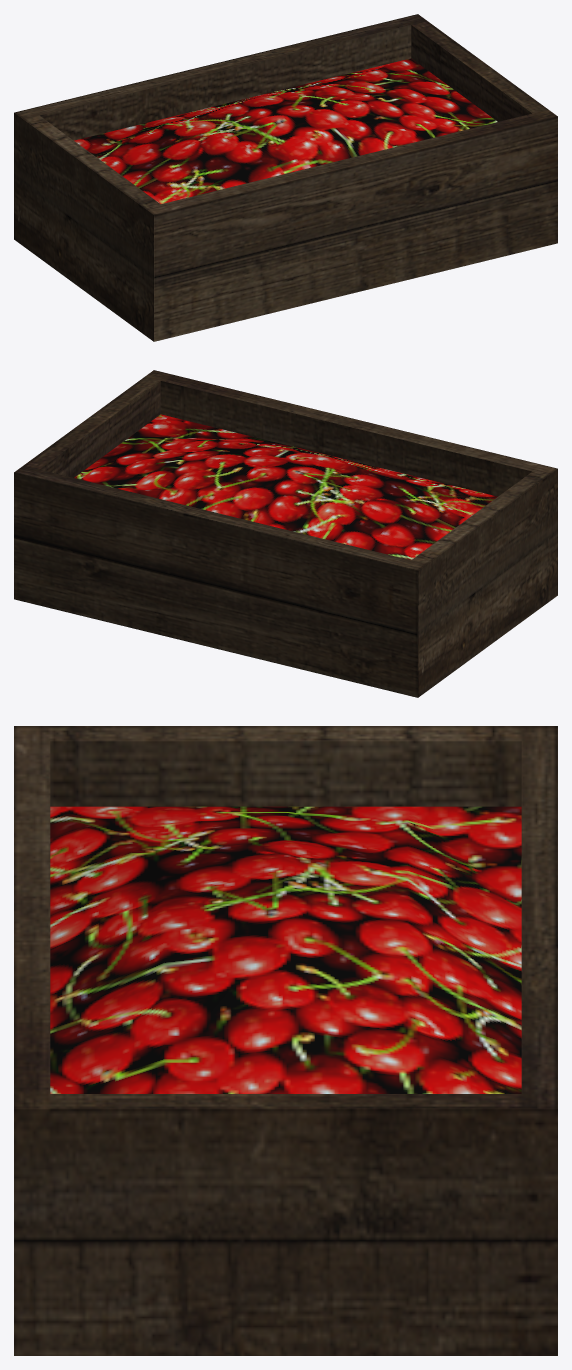
Rendered from Fruits3.fbx.
The picture shows the model from 3 angles, top to bottom: view 1: azimuth 30°, elevation 25°; view 2: azimuth 150°, elevation 25°; view 3: azimuth 270°, elevation 25°; orthographic projection. The views are drawn at different scales.
Parts seen in each view (by area): view 1: skrzynia_z_owocami; view 2: skrzynia_z_owocami; view 3: skrzynia_z_owocami.
Part boxes in pixels (bbox=[...]): skrzynia_z_owocami: bbox=[14, 14, 557, 341]; skrzynia_z_owocami: bbox=[14, 370, 557, 697]; skrzynia_z_owocami: bbox=[14, 726, 557, 1355].
Bounding box in the file's own units: 3.91 × 1.17 × 2.34.
